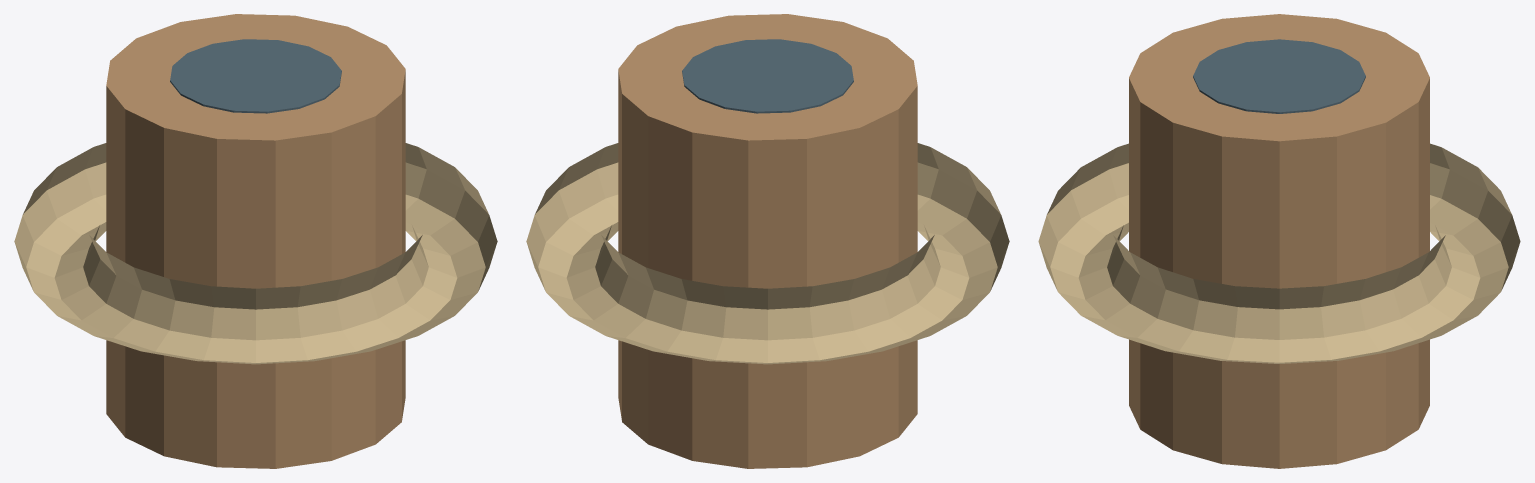
The model's file is 56_L97_Via_Through_Hole.glb.
The picture shows the model from 3 angles, left to right: view 1: azimuth 30°, elevation 25°; view 2: azimuth 150°, elevation 25°; view 3: azimuth 270°, elevation 25°; orthographic projection.
Parts seen in each view (by area): view 1: via_core_1, plated_via_ring_0, drill_core_2; view 2: via_core_1, plated_via_ring_0, drill_core_2; view 3: via_core_1, plated_via_ring_0, drill_core_2.
Boxes of the visible parts, left/top/right/bottom form: via_core_1: left=106, top=14, right=405, bottom=468; plated_via_ring_0: left=14, top=143, right=497, bottom=364; drill_core_2: left=170, top=39, right=341, bottom=113; via_core_1: left=618, top=14, right=917, bottom=468; plated_via_ring_0: left=526, top=143, right=1009, bottom=364; drill_core_2: left=682, top=39, right=853, bottom=113; via_core_1: left=1129, top=14, right=1429, bottom=468; plated_via_ring_0: left=1038, top=143, right=1520, bottom=363; drill_core_2: left=1193, top=39, right=1365, bottom=113.
Bounding box in the file's own units: 0.0024 × 0.00182 × 0.0024.
